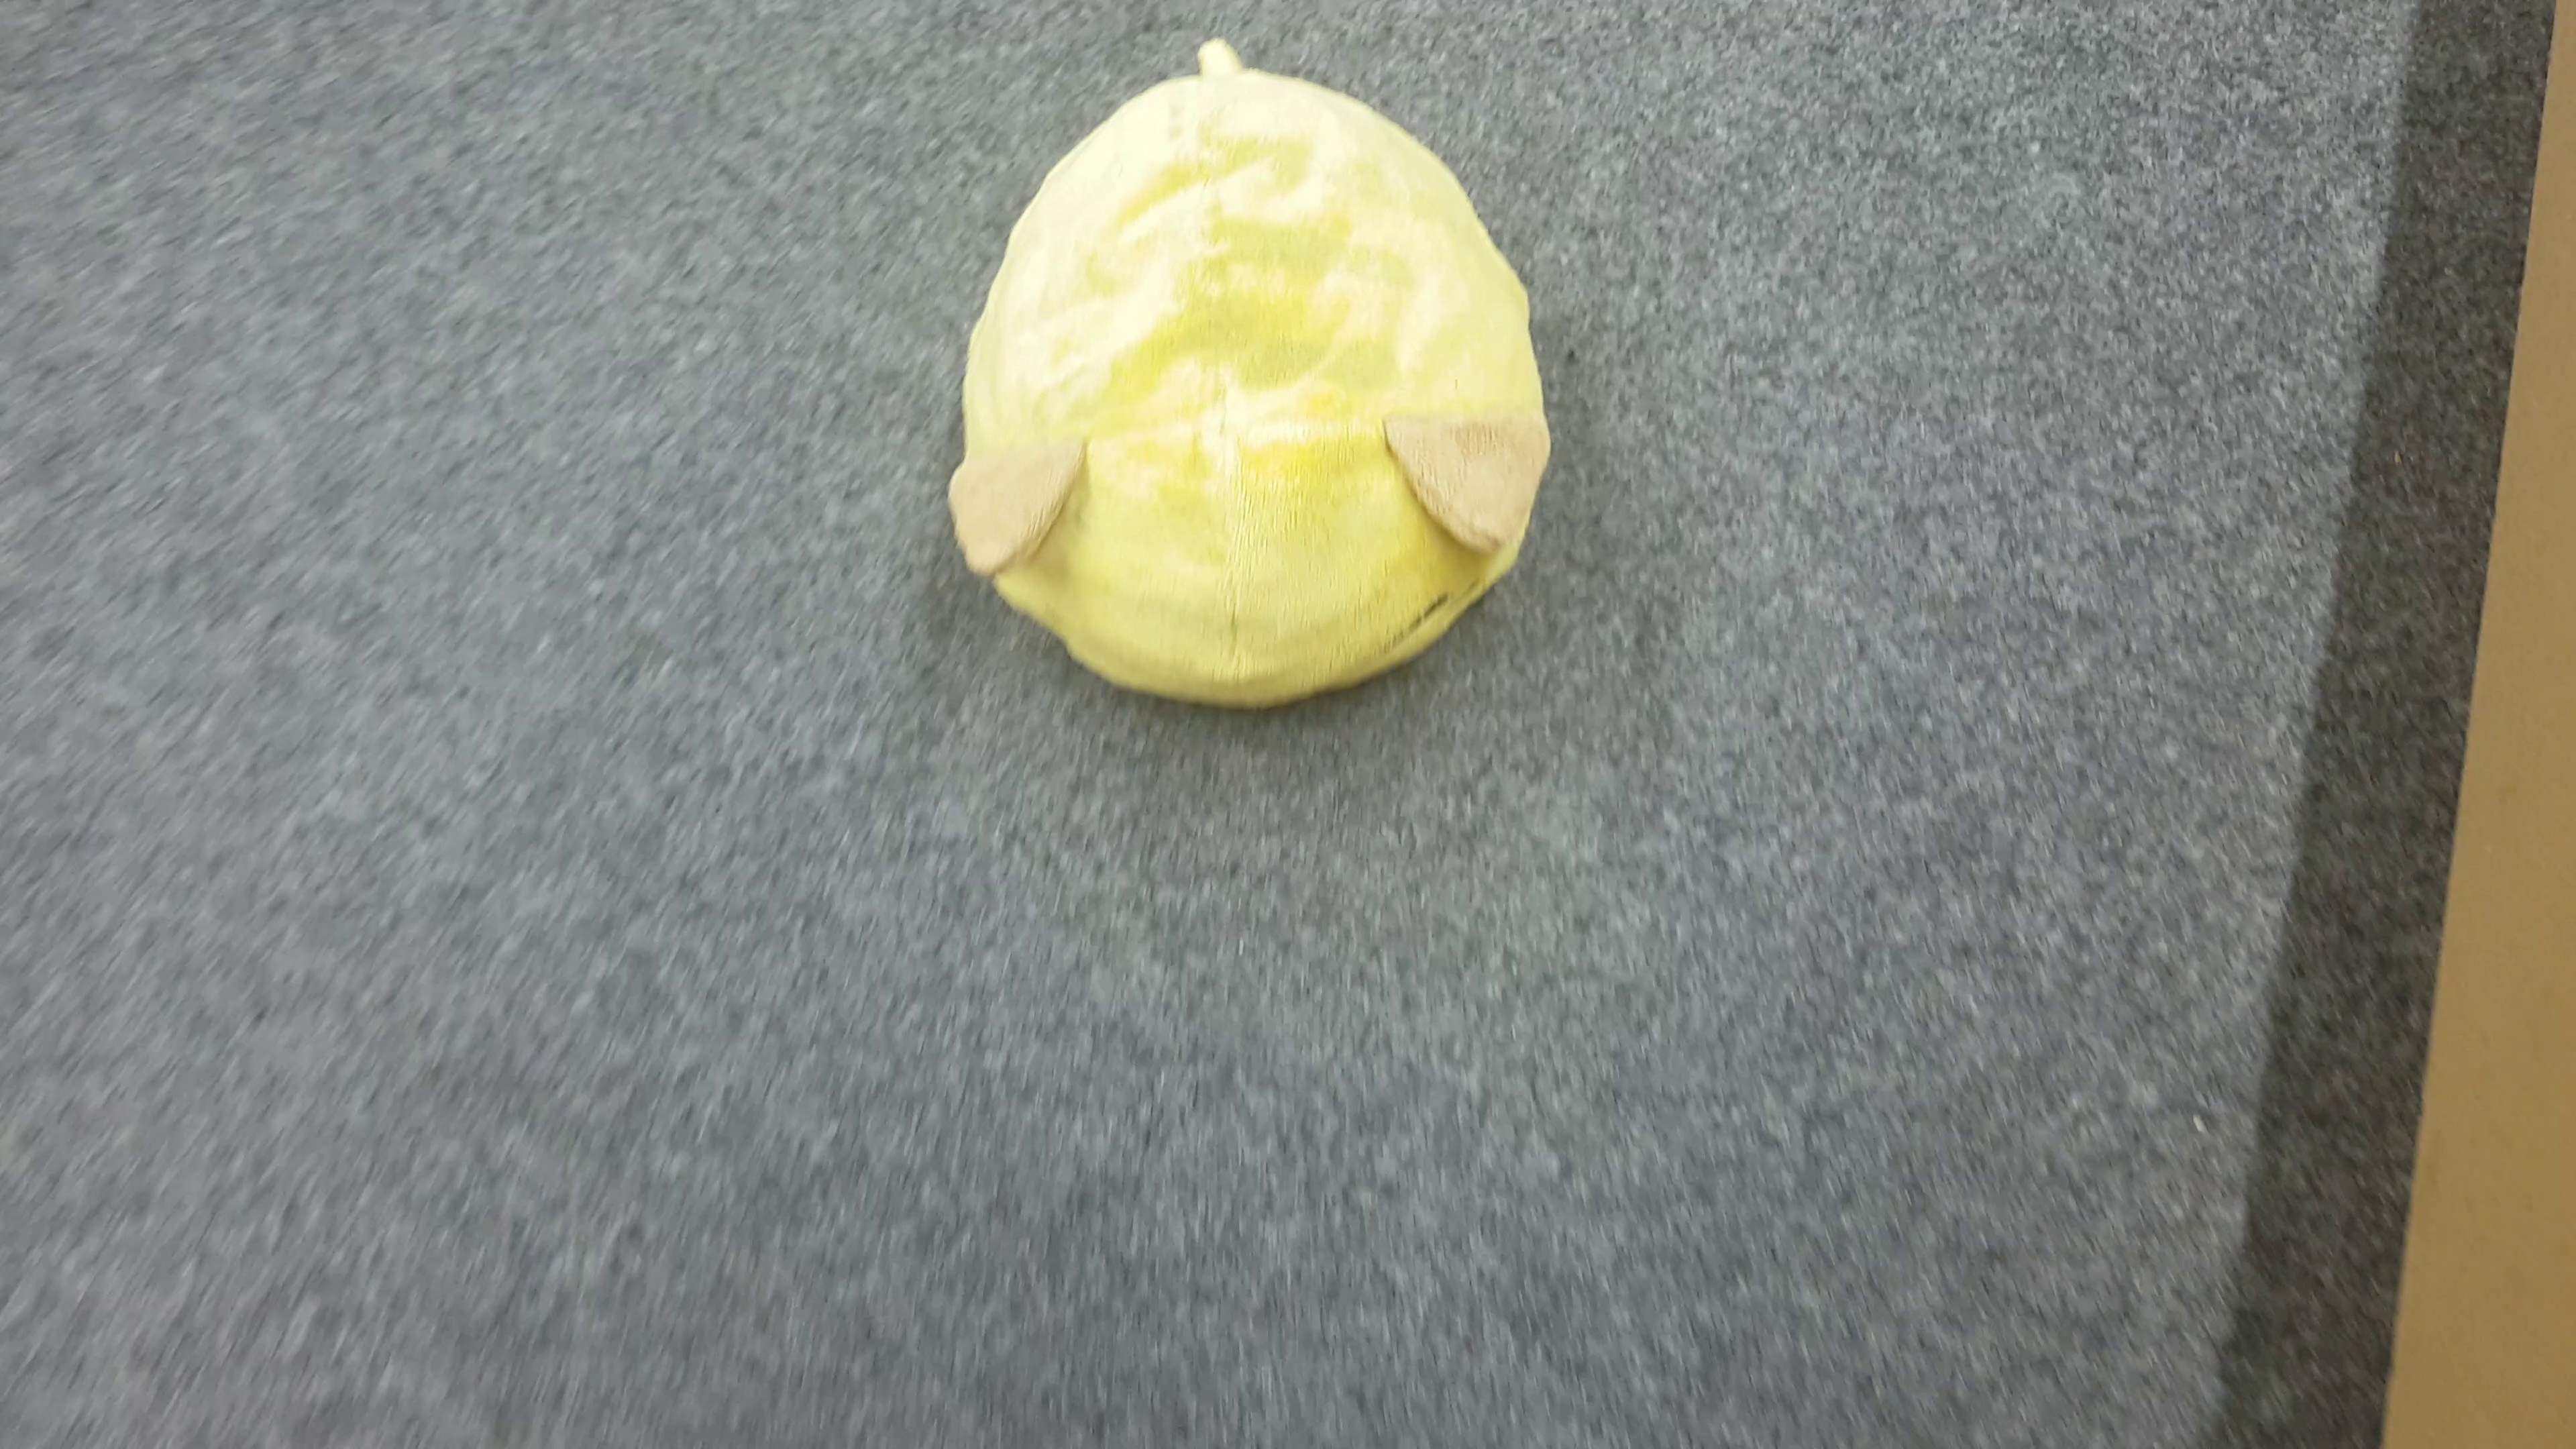grasp: (954, 34, 1553, 708)
